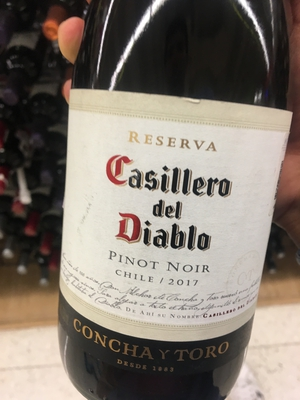casillero del diablo pinot noir: (49, 14, 300, 397)
